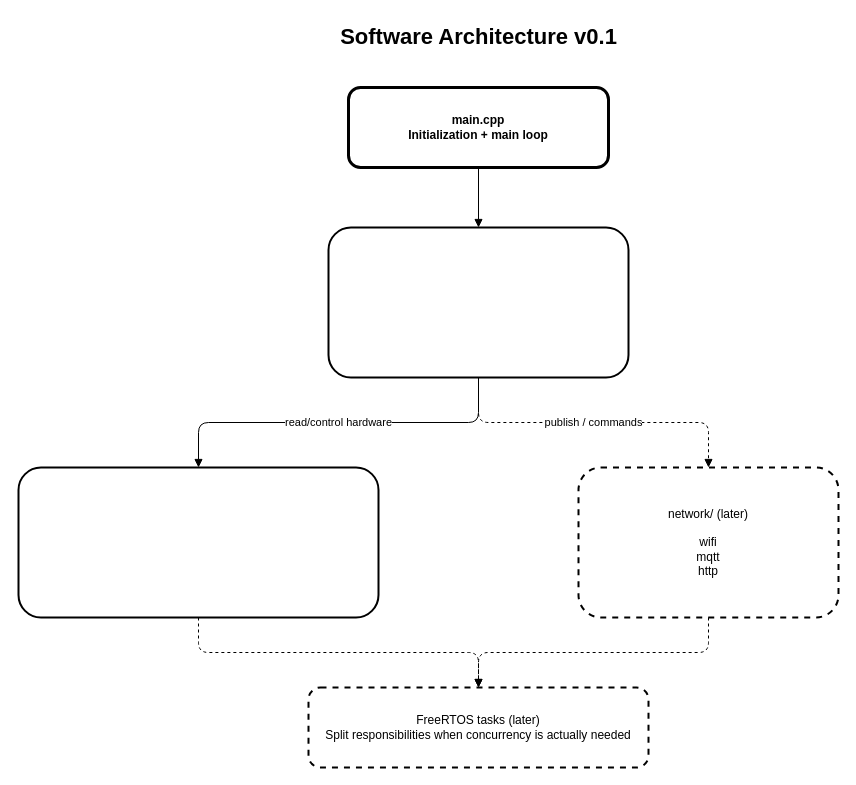
The diagram is 856 pixels wide and 785 high, and some of its shapes have lost their labels. The box of each missing label's shape, as (x1, y1, x2, y2) in pixels:
devices/ button | light | dht11 | ldr pir | relay | oled | buzzer: (17, 466, 379, 618)
services/ lighting_service environment_service security_service: (327, 226, 629, 378)
